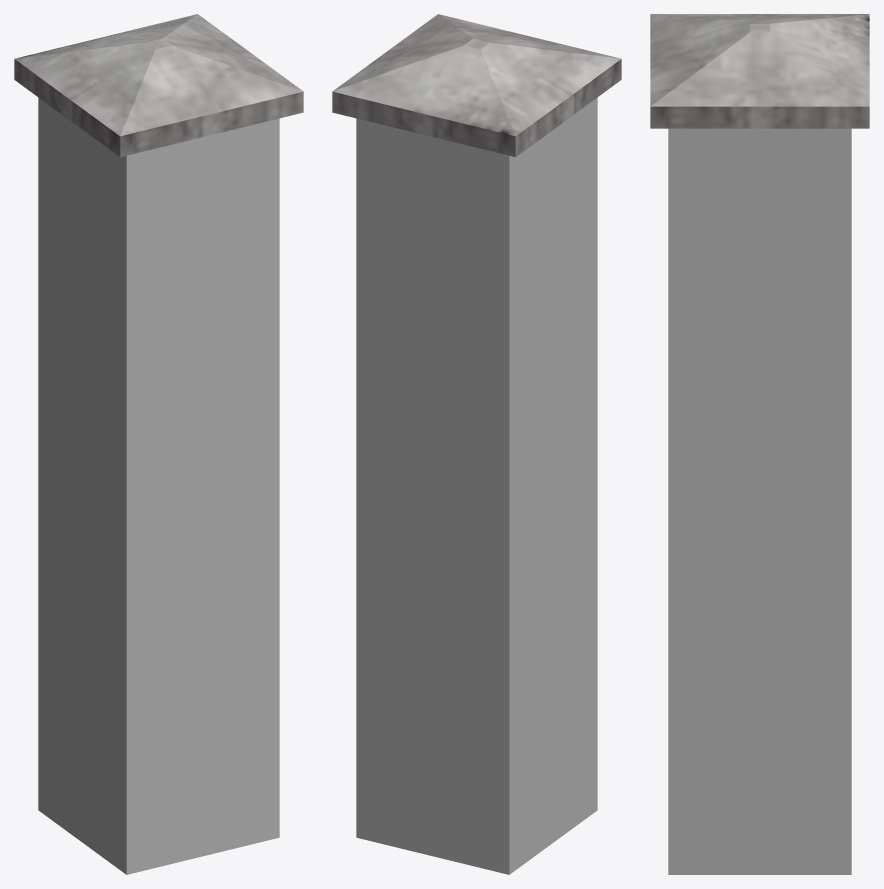
File: PlasterWall_Post_Model.fbx
3 views of the same model, side by side, from view 1: azimuth 30°, elevation 25°; view 2: azimuth 150°, elevation 25°; view 3: azimuth 270°, elevation 25° (orthographic). The views are drawn at different scales.
Visible parts, largest first — view 1: Body; view 2: Body; view 3: Body.
Boxes of the visible parts, left/top/right/bottom form: Body: left=14, top=14, right=303, bottom=874; Body: left=332, top=14, right=621, bottom=874; Body: left=650, top=14, right=869, bottom=874.
Size of the model in its own units: 52.79 by 214 by 52.79.
